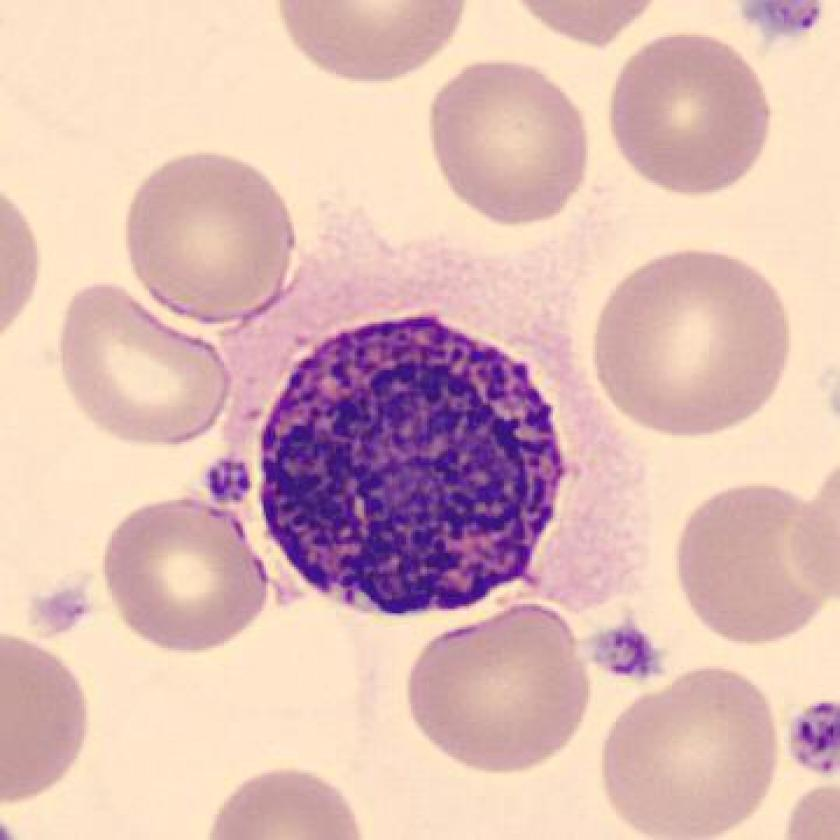basophil: (251, 318, 575, 619)
